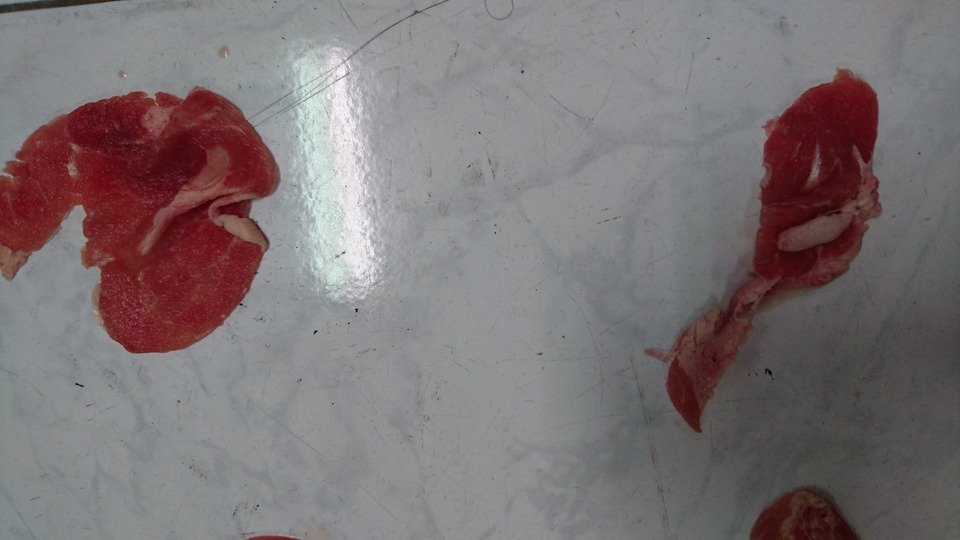restructured meat: (646, 74, 883, 458), (4, 79, 260, 346), (740, 484, 857, 540)
